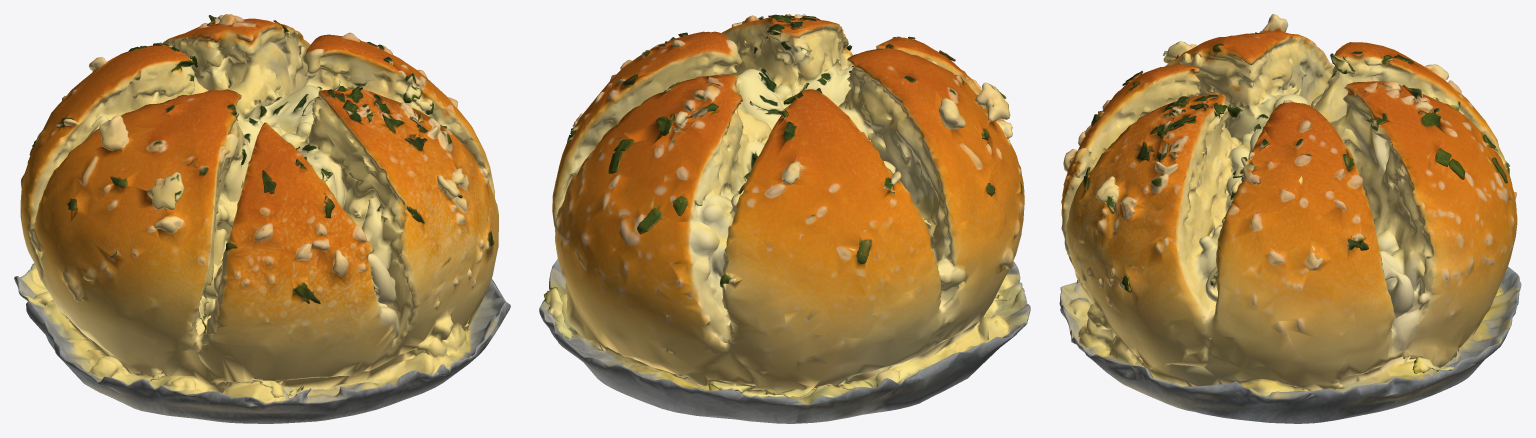
Rendered from garlic.glb.
The picture shows the model from 3 angles, left to right: view 1: azimuth 30°, elevation 25°; view 2: azimuth 150°, elevation 25°; view 3: azimuth 270°, elevation 25°; orthographic projection. The views are drawn at different scales.
Visible parts, largest first — view 1: garlic; view 2: garlic; view 3: garlic.
Part boxes in pixels (x1=…): garlic: x1=14, y1=14, x2=510, y2=423; garlic: x1=539, y1=14, x2=1030, y2=423; garlic: x1=1059, y1=14, x2=1521, y2=423.
Size of the model in its own units: 0.9979 by 0.6359 by 1.
1 material, 1 textured.
